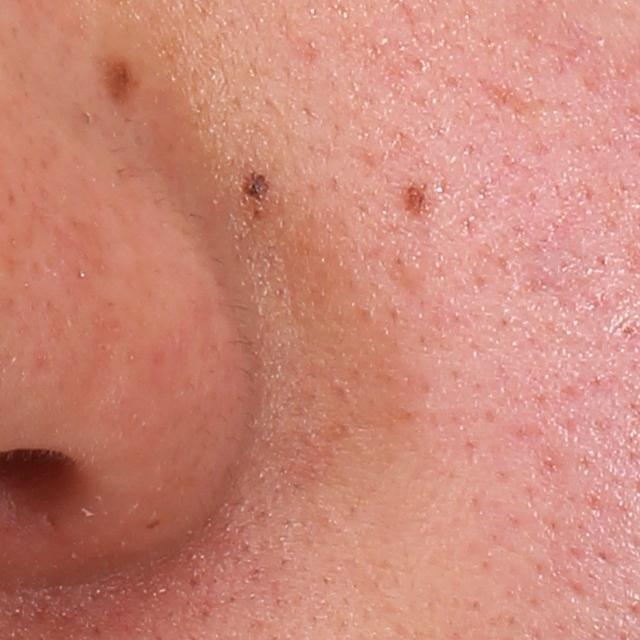nevus: (89, 53, 137, 108), (238, 168, 271, 208), (403, 181, 428, 219)
